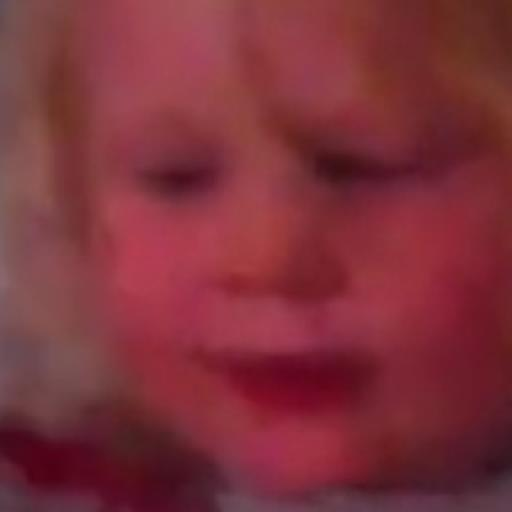Autism: (56, 5, 512, 473)
